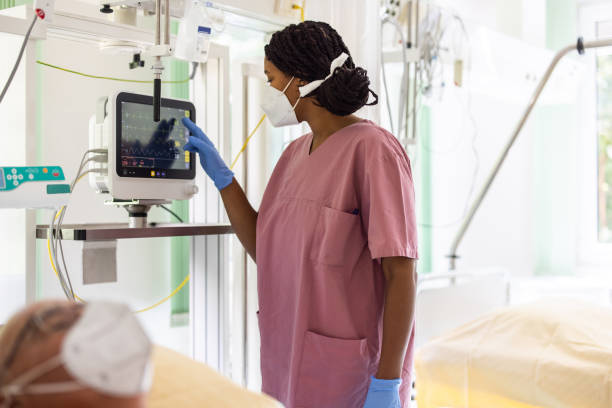bedside_monitor: (87, 89, 207, 203)
hospital_bed: (408, 265, 612, 408)
patient: (1, 291, 164, 408)
staff: (242, 16, 432, 408)
syringe_pump: (1, 163, 78, 207)
